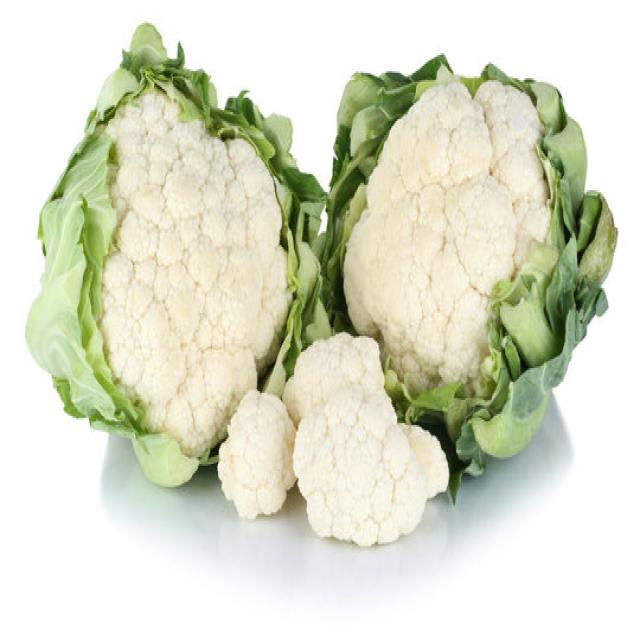Cauliflower: (49, 48, 305, 448), (347, 74, 581, 380), (229, 342, 432, 540)
